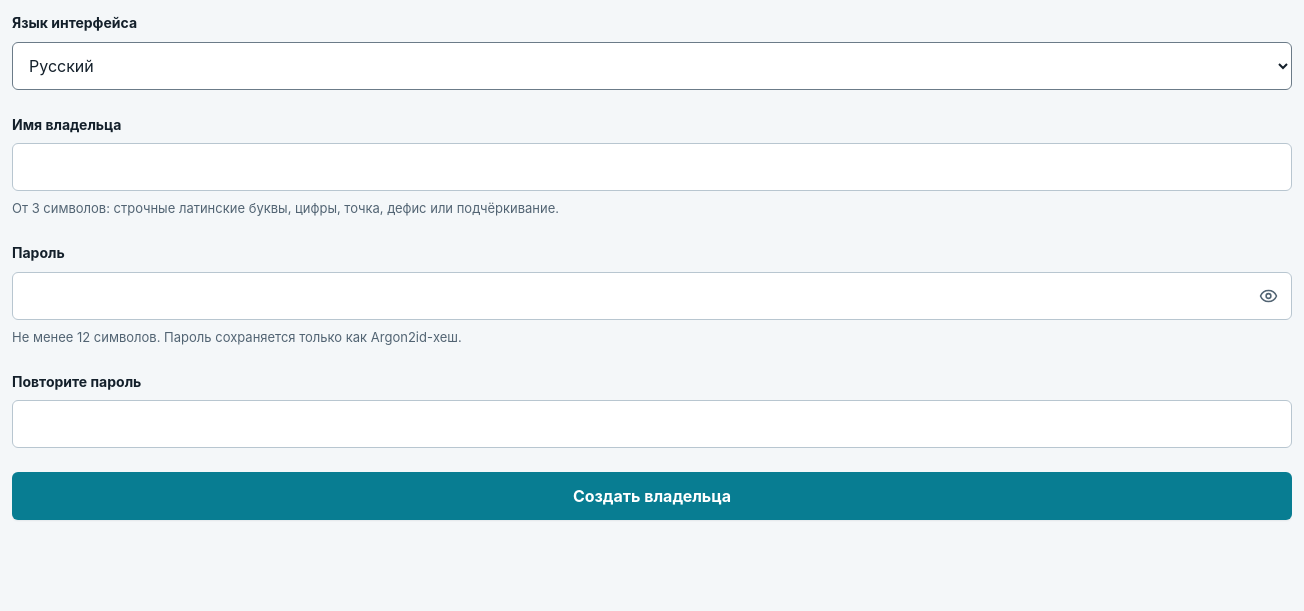
Test: OwnerSetupForm › disables the primary action while setup is pending
The image size is (1304, 611).
Type "owner" into the field labelled "Имя владельца".
click(652, 167); type("owner")  # box [12, 143, 1292, 191]
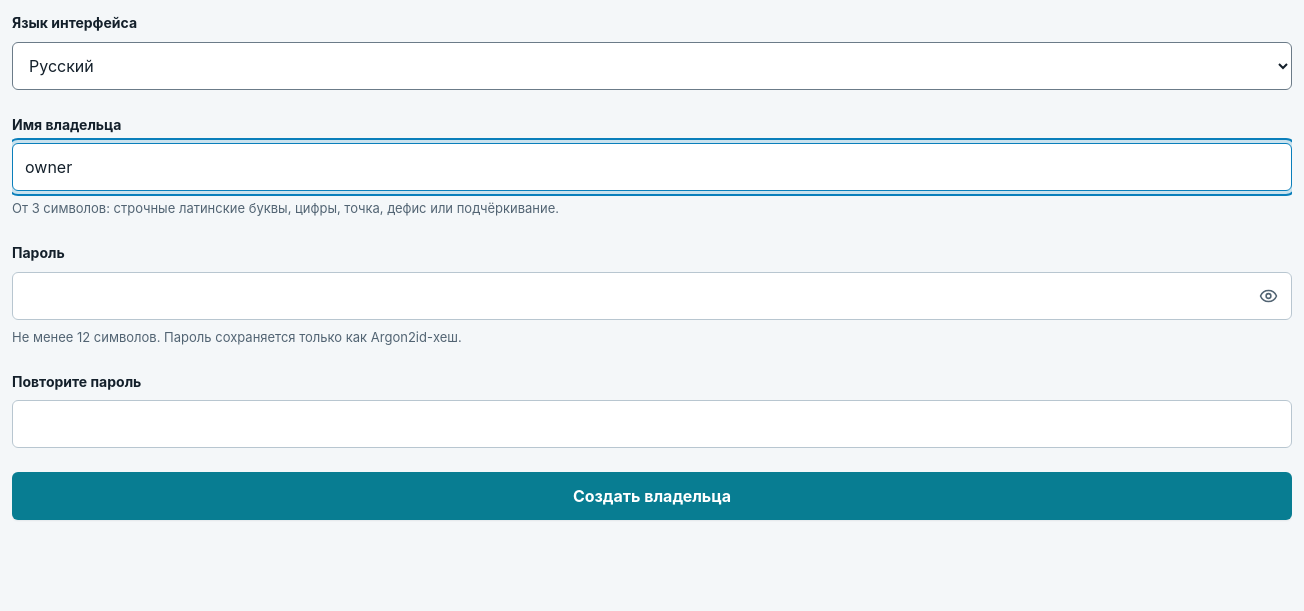
Type "correct horse battery staple" into the password field labelled "Пароль".
click(652, 296); type("correct horse battery staple")  # box [12, 272, 1292, 320]
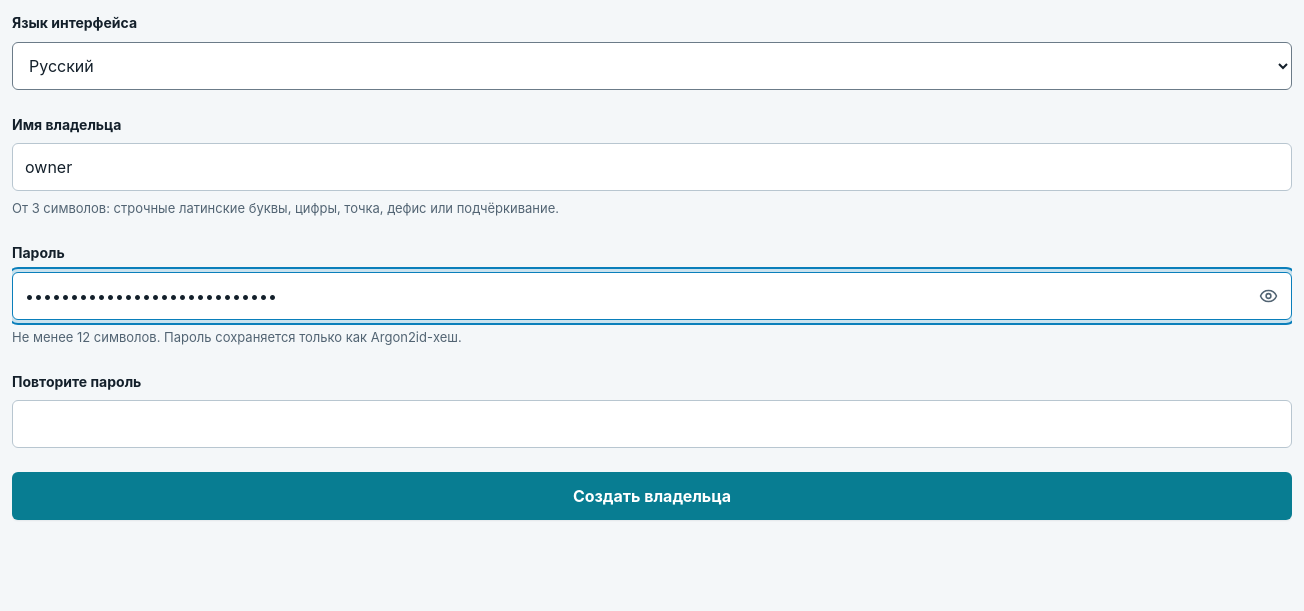
Type "correct horse battery staple" into the password field labelled "Повторите пароль".
click(652, 424); type("correct horse battery staple")  # box [12, 400, 1292, 448]
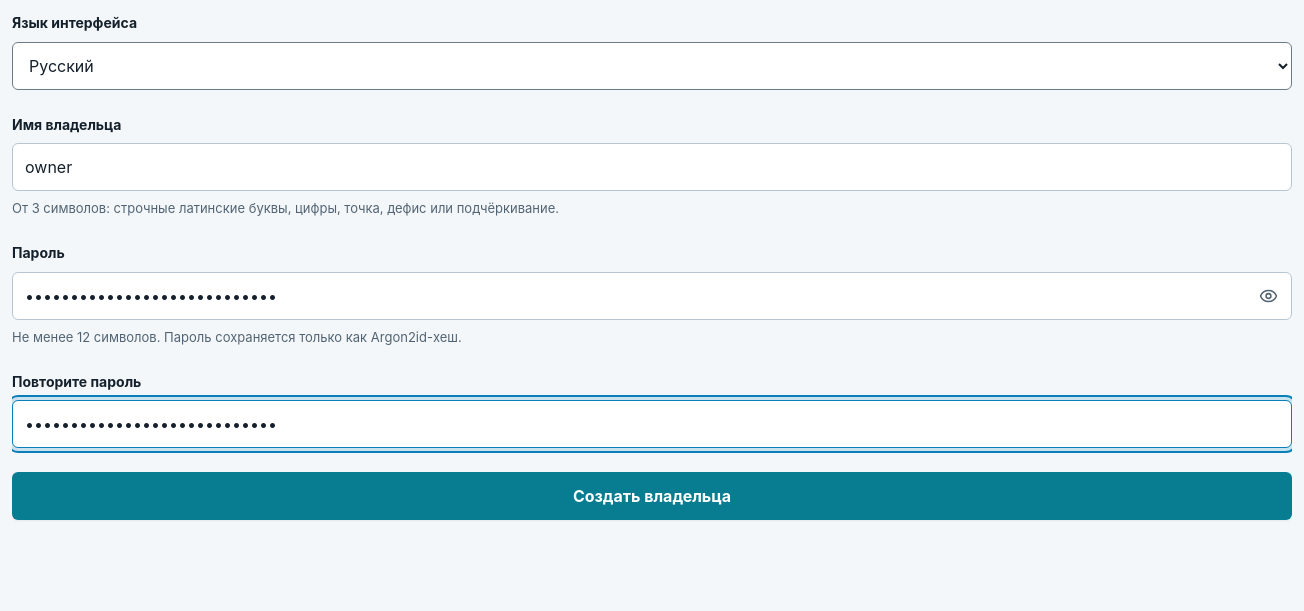
Click the button "Создать владельца".
click(652, 496)  # box [12, 472, 1292, 520]
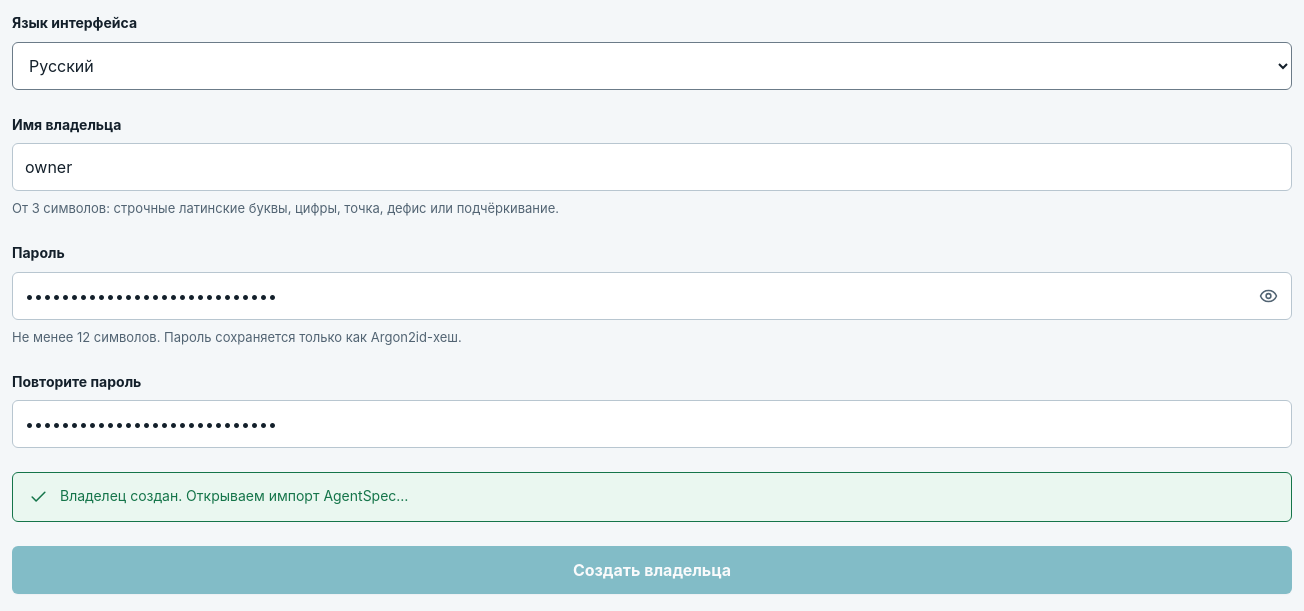
Check: the button named "Создаём владельца…" is disabled, box [12, 546, 1292, 594]
